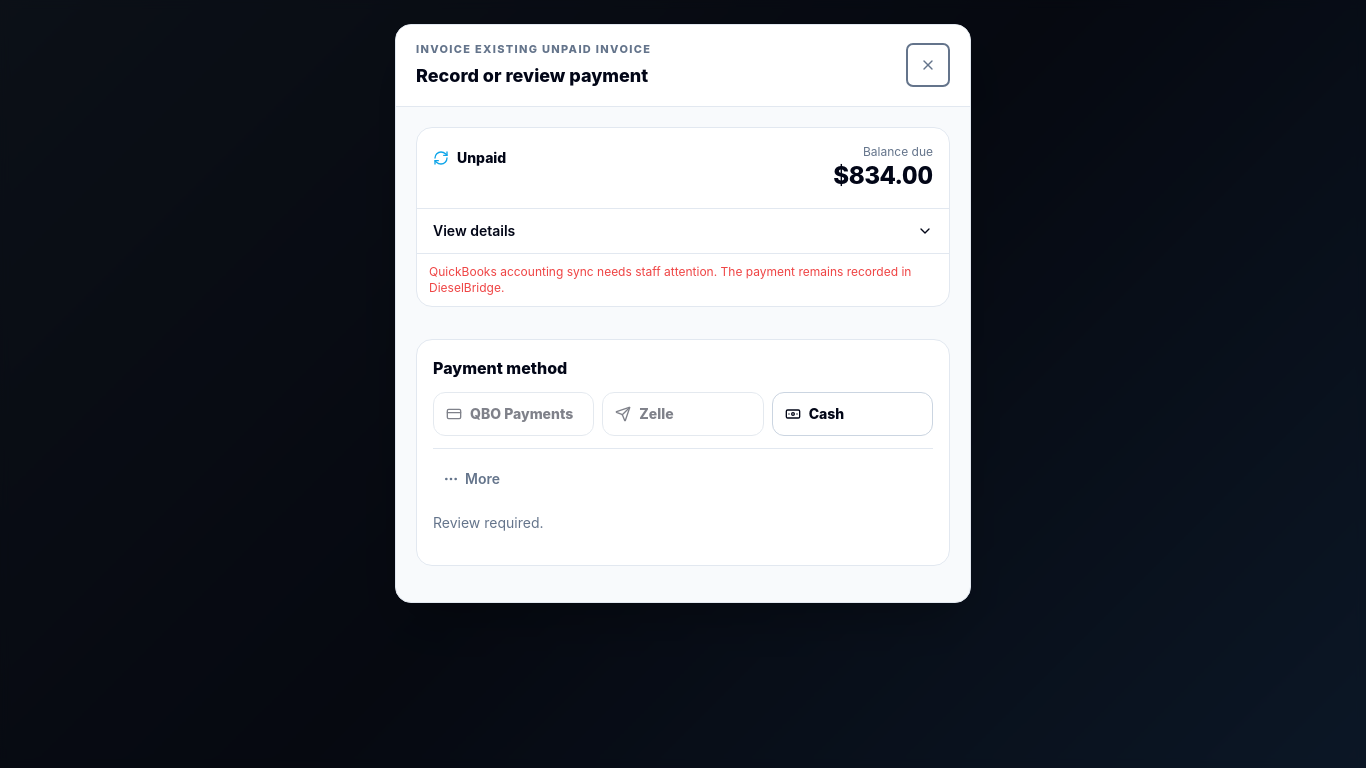
Test case: Staff payment choice remains independent of historical export status › keeps full-cash confirmation available inside the selector when noncash is blocked
Expected: the radio button labelled "QBO Payments" is disabled, [433,392,594,436]
Click the radio button labelled "Cash" at x=852, y=414, box [772,392,933,436]
(page scrolled)
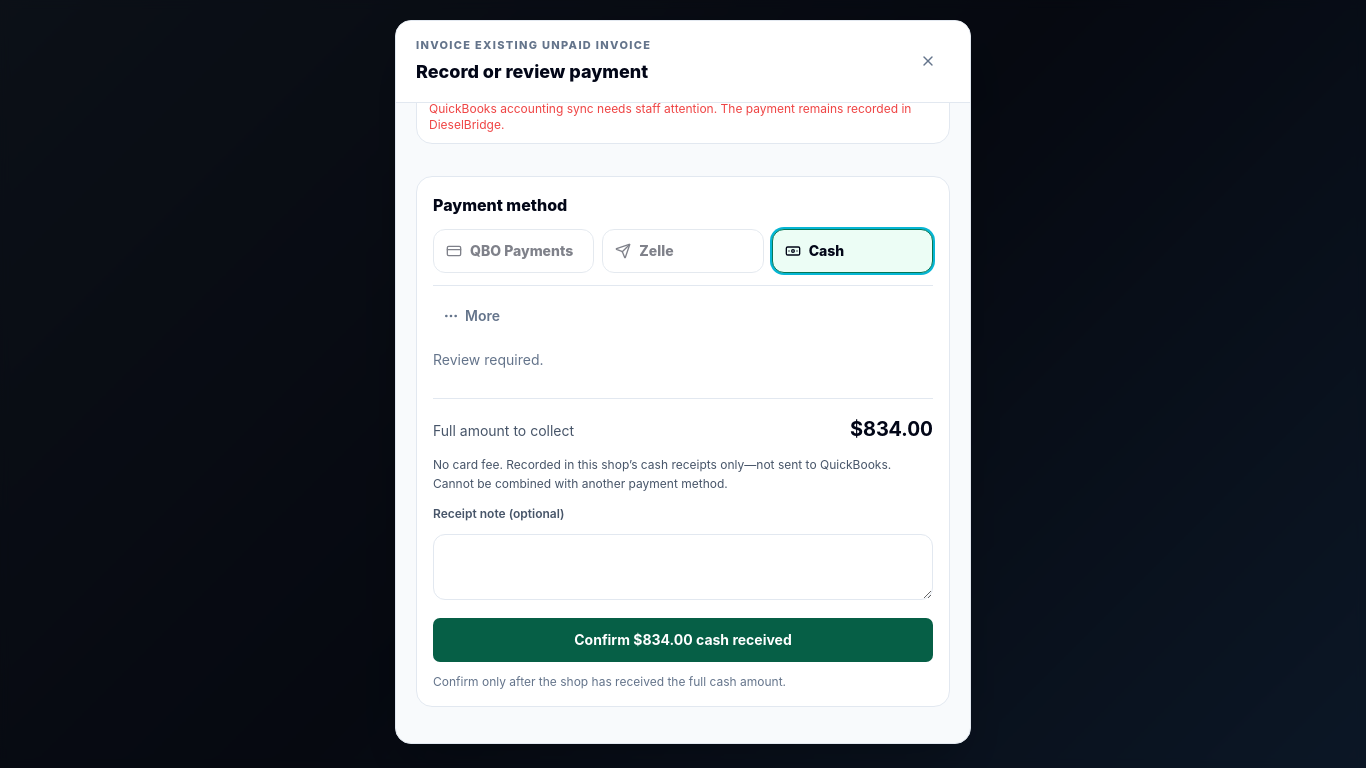
Result: the button "Confirm $834.00 cash received" is enabled at [433,618,933,662]
